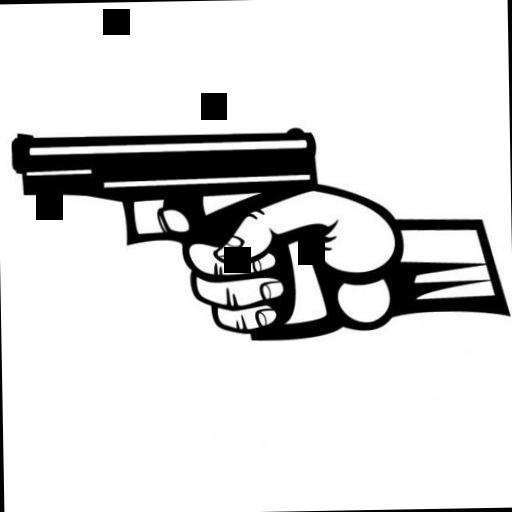Handgun: (8, 122, 350, 348)
